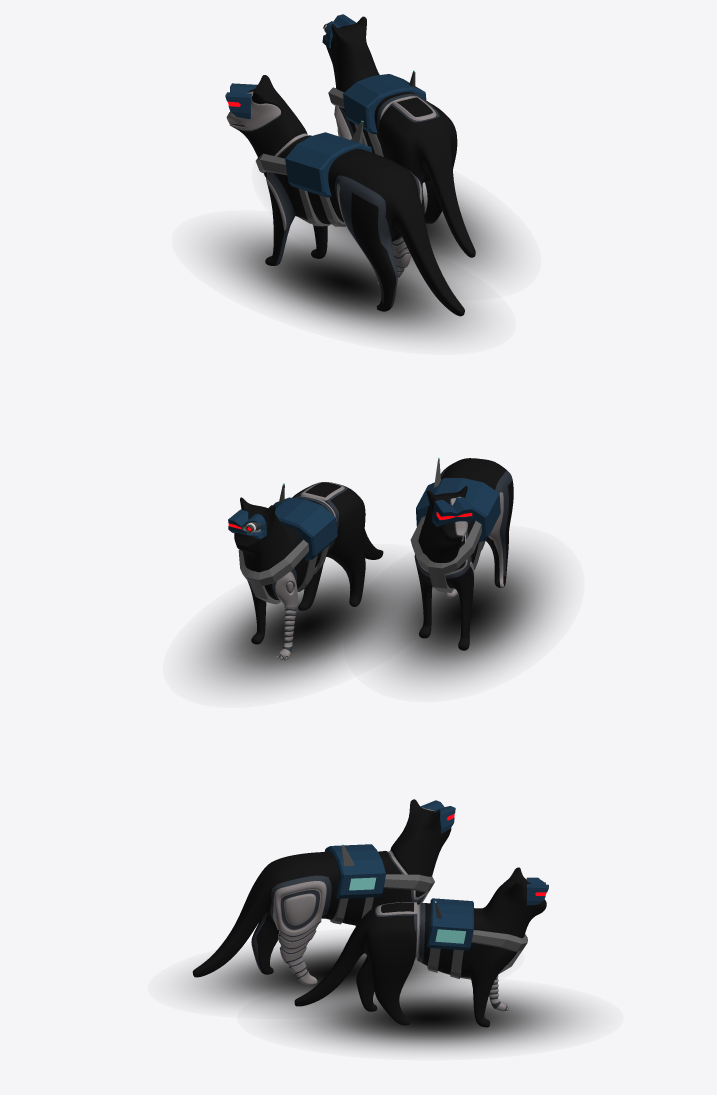
The picture shows the model from 3 angles, top to bottom: view 1: azimuth 30°, elevation 25°; view 2: azimuth 150°, elevation 25°; view 3: azimuth 270°, elevation 25°; orthographic projection. The views are drawn at different scales.
Visible parts, largest first — view 1: Cube.007, shadow.001, Cube, shadow, Cube.006, Cube.001, Cube.004, Cube.005; view 2: shadow, shadow.001, Cube, Cube.007, Cube.006, Cube.001, Cube.004, Cube.003; view 3: shadow, Cube.007, Cube, shadow.001, Cube.006, Cube.001, Cube.002, Cube.003, Cube.004.
Part boxes in pixels (left/top/right/bottom): Cube.007: left=226, top=75, right=464, bottom=316; shadow.001: left=208, top=225, right=479, bottom=339; Cube: left=326, top=16, right=475, bottom=257; shadow: left=301, top=182, right=510, bottom=282; Cube.006: left=255, top=120, right=371, bottom=223; Cube.001: left=328, top=70, right=426, bottom=134; Cube.004: left=225, top=83, right=256, bottom=119; Cube.005: left=298, top=188, right=346, bottom=226; shadow: left=193, top=561, right=420, bottom=690; shadow.001: left=375, top=544, right=558, bottom=683; Cube: left=234, top=482, right=383, bottom=660; Cube.007: left=414, top=458, right=513, bottom=650; Cube.006: left=410, top=457, right=500, bottom=592; Cube.001: left=238, top=483, right=337, bottom=604; Cube.004: left=432, top=497, right=472, bottom=526; Cube.003: left=228, top=509, right=266, bottom=539; shadow: left=278, top=985, right=582, bottom=1051; Cube.007: left=192, top=799, right=451, bottom=984; Cube: left=294, top=867, right=546, bottom=1027; shadow.001: left=188, top=938, right=461, bottom=1007; Cube.006: left=324, top=844, right=434, bottom=903; Cube.001: left=427, top=898, right=527, bottom=979; Cube.002: left=427, top=948, right=463, bottom=978; Cube.003: left=526, top=877, right=548, bottom=905; Cube.004: left=420, top=800, right=455, bottom=833.
Size of the model in its own units: 18.12 by 6.59 by 26.64.
11 materials, 1 textured.
